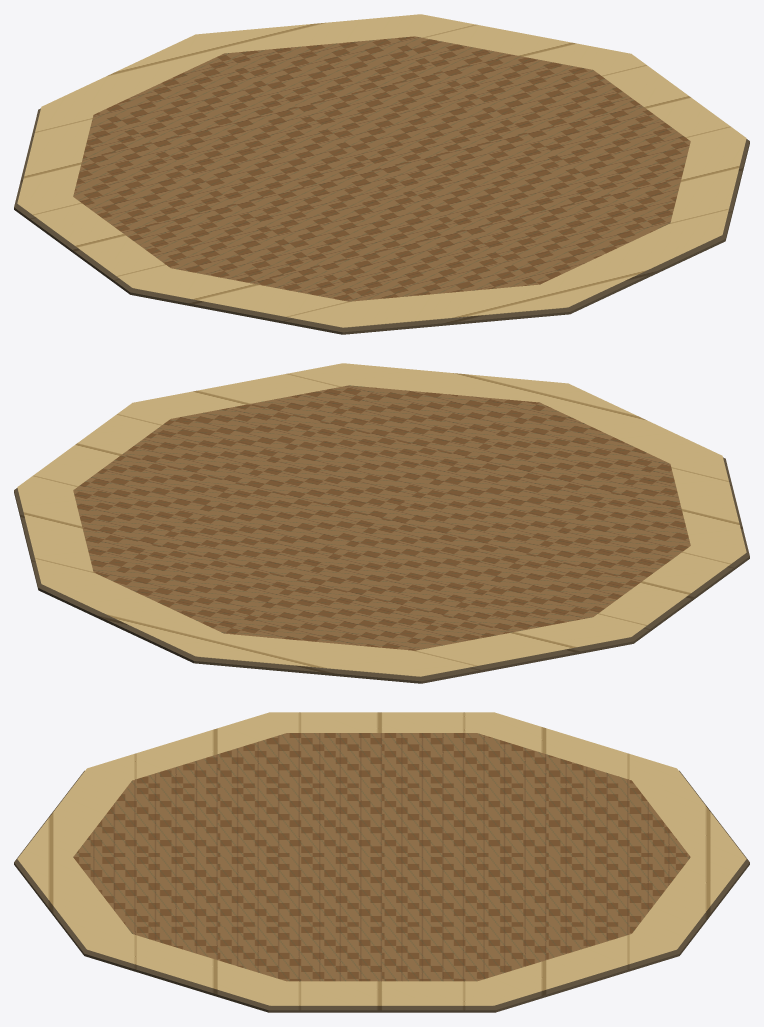
File: env_plaza_market_a.glb
3 renders of one model, top to bottom at view 1: azimuth 30°, elevation 25°; view 2: azimuth 150°, elevation 25°; view 3: azimuth 270°, elevation 25°, orthographic. The views are drawn at different scales.
Visible parts, largest first — view 1: lod0__plaza_packed, lod0__plaza_clay; view 2: lod0__plaza_packed, lod0__plaza_clay; view 3: lod0__plaza_packed, lod0__plaza_clay.
Part boxes in pixels (<box>): lod0__plaza_packed: <box>73,36,690,301</box>; lod0__plaza_clay: <box>14,14,749,334</box>; lod0__plaza_packed: <box>73,385,690,650</box>; lod0__plaza_clay: <box>14,363,749,683</box>; lod0__plaza_packed: <box>73,733,690,981</box>; lod0__plaza_clay: <box>14,712,749,1012</box>.
Bounding box in the file's own units: 10.65 × 0.13 × 11.2.
Materials: 2 (2 with a texture image).
